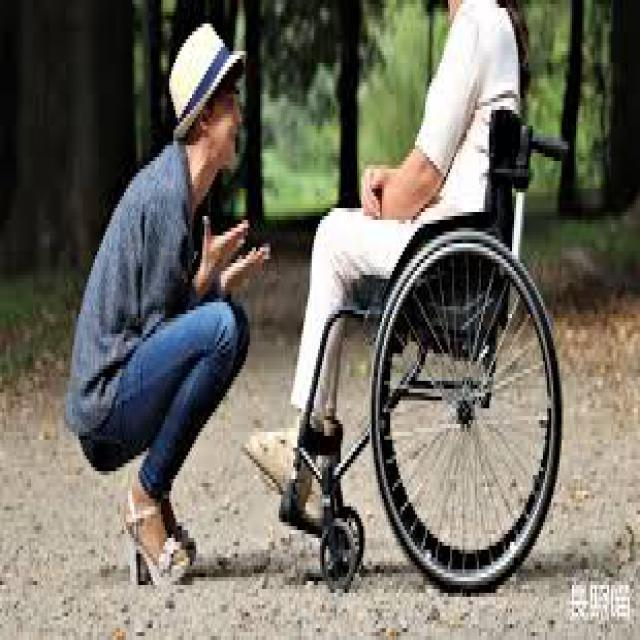wheelchairs: (274, 98, 576, 605)
